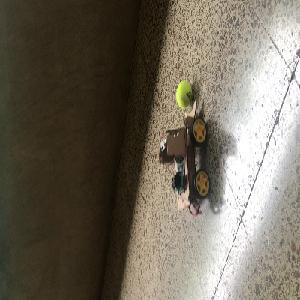Ball: (176, 80, 193, 108)
Robot: (158, 100, 210, 209)
